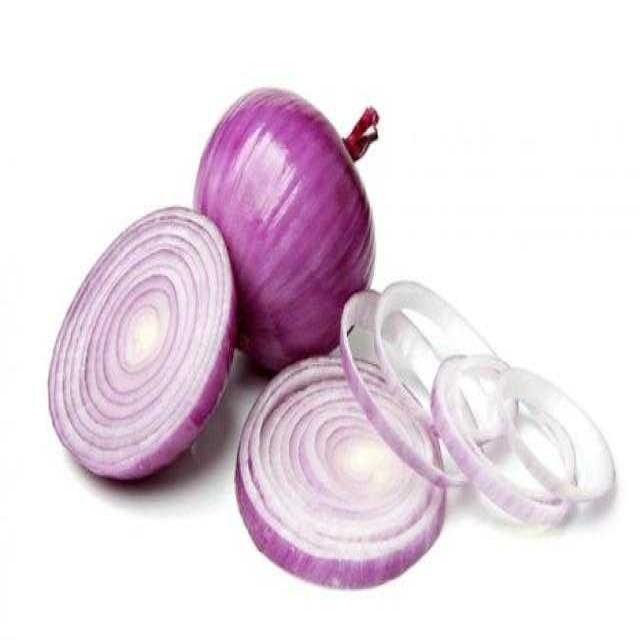onion: (231, 280, 619, 592), (194, 87, 381, 379), (48, 207, 241, 484)
